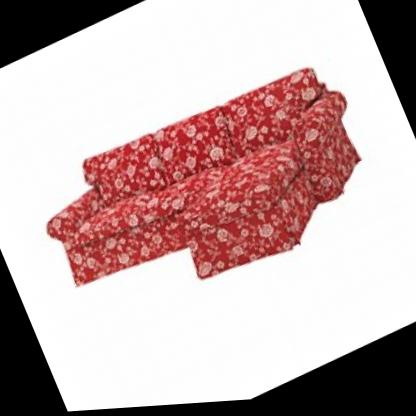Sofa: (5, 22, 396, 360)
